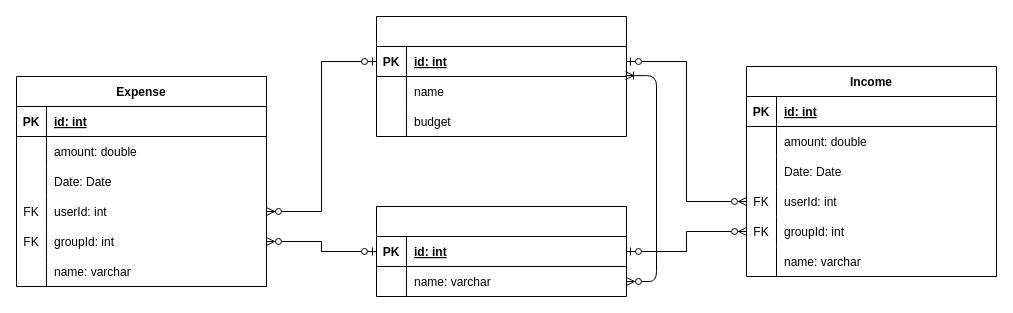
The diagram is 1013 pixels wide and 313 high, and some of its shapes have lost their labels. The shapes that lost their labels are listed below. From the top down, each one's box as (x1, y1, x2, y2) in pixels, then its label:
(376, 16, 626, 136): User
(376, 206, 626, 296): Group
